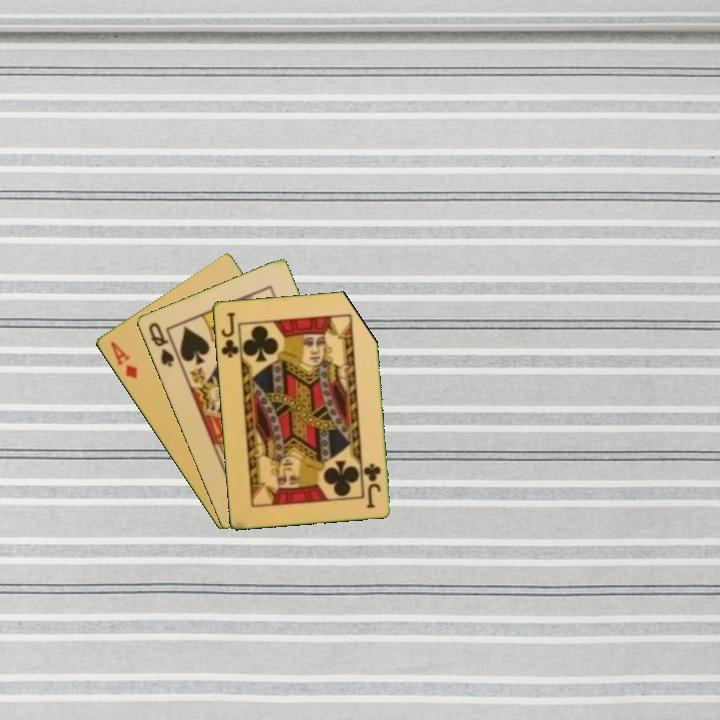Ad: (106, 337, 140, 382)
Jc: (217, 308, 241, 360), (360, 459, 384, 511)
Qs: (144, 318, 177, 370)
